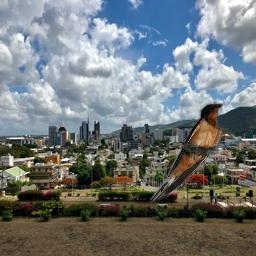Swallow: (147, 101, 225, 203)
